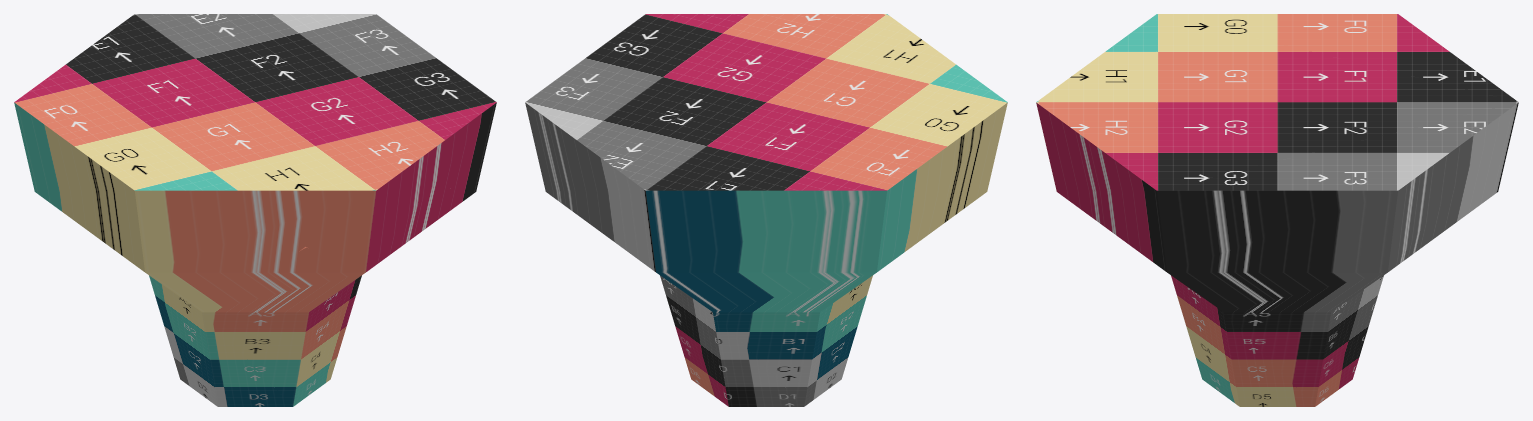
Rendered from plant.glb.
The picture shows the model from 3 angles, left to right: view 1: azimuth 30°, elevation 25°; view 2: azimuth 150°, elevation 25°; view 3: azimuth 270°, elevation 25°; orthographic projection.
Parts seen in each view (by area): view 1: col_plant; view 2: col_plant; view 3: col_plant.
Boxes of the visible parts, <box> form: col_plant: <box>14,14,496,406</box>; col_plant: <box>525,14,1007,406</box>; col_plant: <box>1036,14,1518,406</box>.
Bounding box in the file's own units: 1.12 × 0.8168 × 1.29.
1 material, 1 textured.
